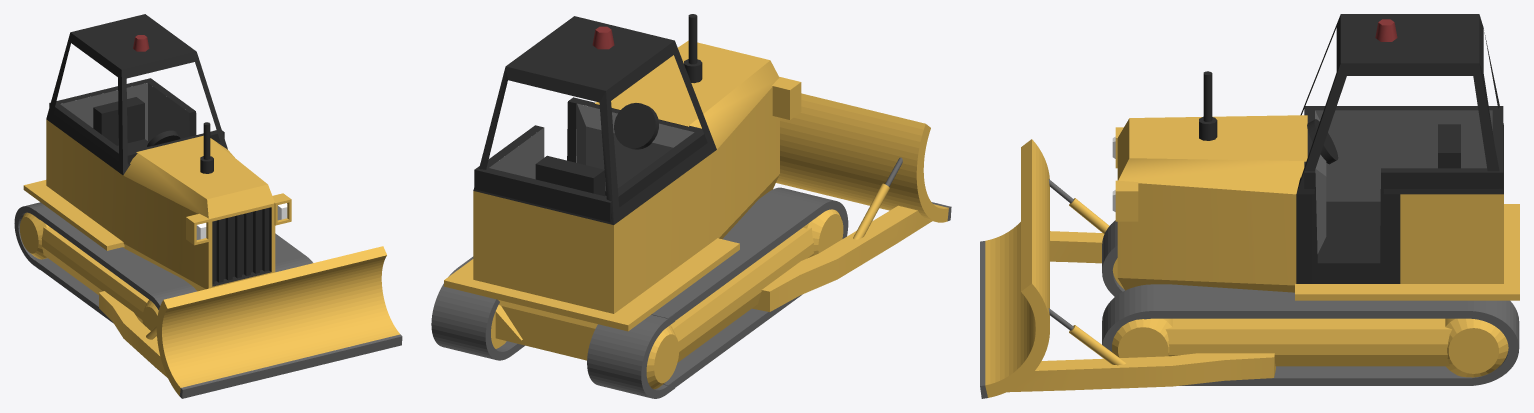
File: bulldozer.glb
3 renders of one model, left to right at view 1: azimuth 30°, elevation 25°; view 2: azimuth 150°, elevation 25°; view 3: azimuth 270°, elevation 25°, orthographic. The views are drawn at different scales.
Parts seen in each view (by area): view 1: Box003; view 2: Box003; view 3: Box003.
Part boxes in pixels (x1=…): Box003: x1=14, y1=14, x2=402, y2=398; Box003: x1=431, y1=14, x2=951, y2=398; Box003: x1=980, y1=14, x2=1519, y2=398.
Size of the model in its own units: 3.17 by 3.19 by 5.
